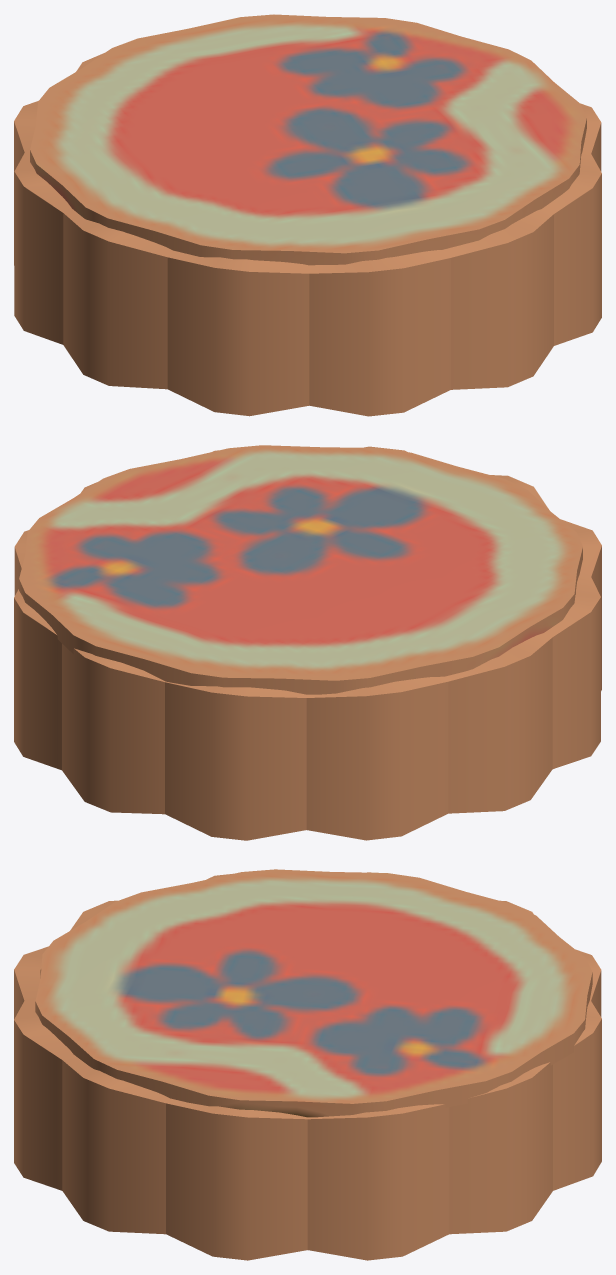
File: SM_Mooncake_02.fbx
The picture shows the model from 3 angles, top to bottom: view 1: azimuth 30°, elevation 25°; view 2: azimuth 150°, elevation 25°; view 3: azimuth 270°, elevation 25°; orthographic projection.
Parts seen in each view (by area): view 1: Cylinder.001, Cylinder; view 2: Cylinder.001, Cylinder; view 3: Cylinder.001, Cylinder.
Boxes of the visible parts, x1,y1,x2,y2 form: Cylinder.001: (30,14,586,265); Cylinder: (14,53,601,416); Cylinder.001: (19,445,582,694); Cylinder: (14,446,601,840); Cylinder.001: (35,869,592,1117); Cylinder: (14,872,601,1260).
Bounding box in the file's own units: 0.2352 × 0.238 × 0.0695.
